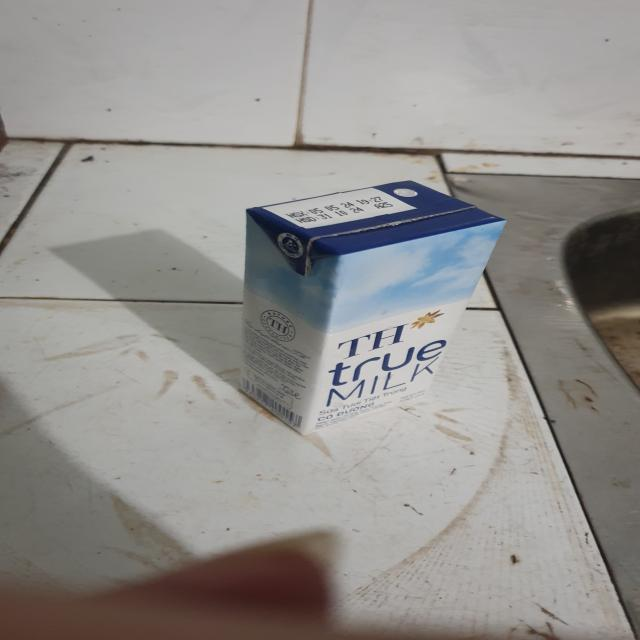TH: (239, 180, 509, 438)
